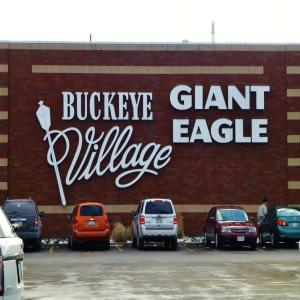Vehicle-registration-plate: (16, 222, 23, 228), (238, 237, 245, 243), (89, 222, 96, 227), (292, 223, 299, 228), (158, 219, 164, 224)
